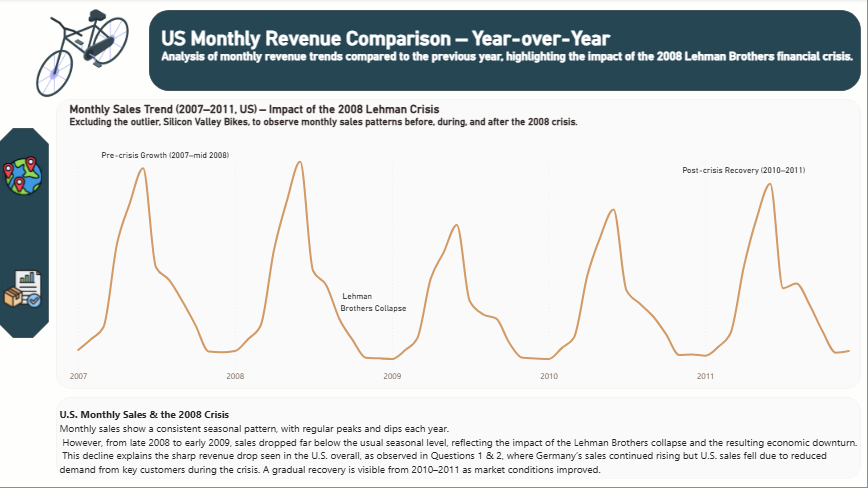

This screenshot's page, from the dashboard's own definition file:
{"tool":"powerbi","page":{"name":"US Monthly Revenue Trends","canvas":[1280,720],"ordinal":1},"visuals":[{"type":"shape","box":[0,0,1279.8,720],"z":0},{"type":"shape","box":[223.3,17.6,1046.2,119],"z":1000},{"type":"image","box":[0,0,251.3,161.6],"z":2000},{"type":"shape","box":[0,191,76.4,308.6],"z":3000},{"type":"shape","box":[86.7,148.4,1182.9,426.1],"z":4000},{"type":"lineChart","title":"Monthly Sales Trend (2007–2011, US) – Impact of the 2008 Lehman Crisis","fields":{"Y":["Fact Table.Revenue USD"],"Category":["Calendar.Date.Variation.Date Hierarchy.Year","Calendar.Date.Variation.Date Hierarchy.Month"]},"box":[101.4,226.3,1168.2,348.2],"z":5000},{"type":"textbox","box":[101.4,148.4,765.6,52.9],"z":6000},{"type":"textbox","box":[145.5,216,211.6,44.1],"z":7000},{"type":"textbox","box":[499.6,423.2,110.2,44.1],"z":8000},{"type":"textbox","box":[1002.1,238,192.5,44.1],"z":9000},{"type":"shape","box":[86.7,586.3,1182.9,120.5],"z":10000},{"type":"textbox","box":[86.7,596.6,1193.1,110.2],"z":11000},{"type":"textbox","box":[236.6,36.7,1043.3,77.9],"z":12000},{"type":"actionButton","box":[4.4,226.3,66.1,70.5],"z":13000},{"type":"actionButton","box":[4.4,392.3,66.1,70],"z":14000}]}

Visuals, with their boxes in screenshot pixels (x1, y1, x2, y2), scaled from the page's 1280x720 canvas onto the 868x488 screenshot:
shape: 0 0 867 487
shape: 151 12 861 93
image: 0 0 170 110
shape: 0 129 52 339
shape: 59 101 861 389
"Monthly Sales Trend (2007–2011, US) – Impact of the 2008 Lehman Crisis" lineChart: 69 153 861 389
textbox: 69 101 588 136
textbox: 99 146 242 176
textbox: 339 287 414 317
textbox: 680 161 810 191
shape: 59 397 861 479
textbox: 59 404 867 479
textbox: 160 25 867 78
actionButton: 3 153 48 201
actionButton: 3 266 48 313
